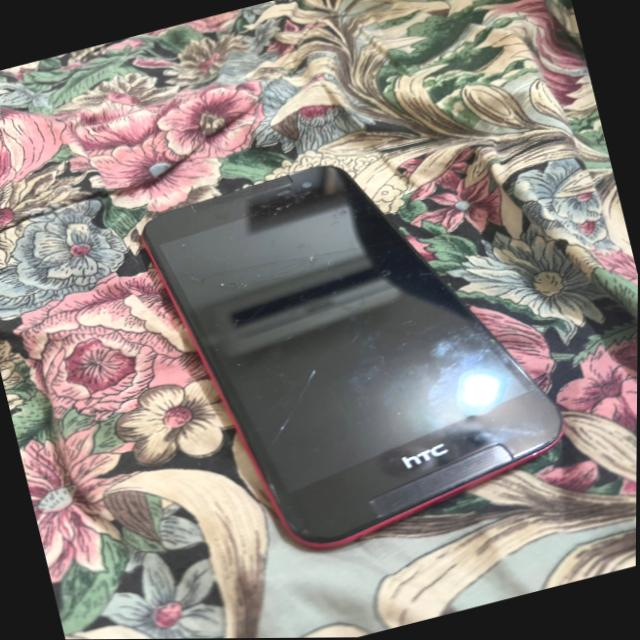Smartphone: (143, 166, 564, 549)
